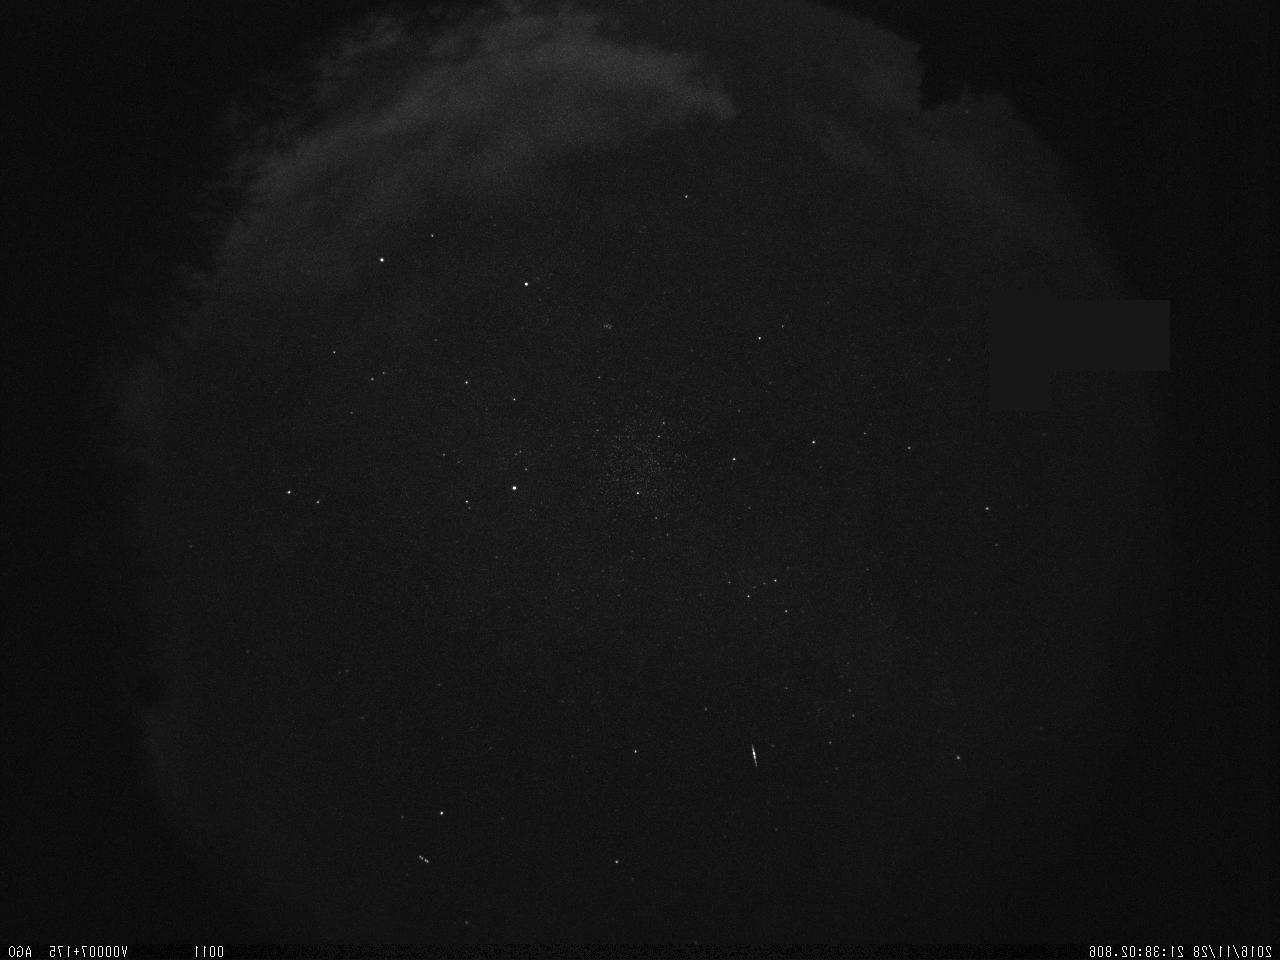meteor: (738, 738, 769, 771)
